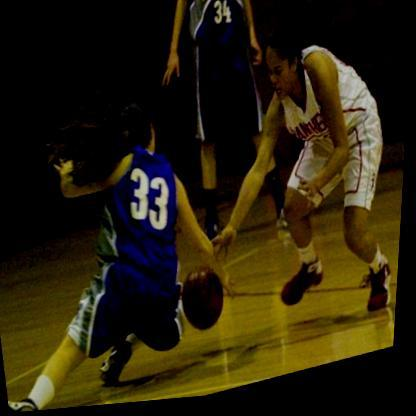basketball: (176, 261, 234, 337)
